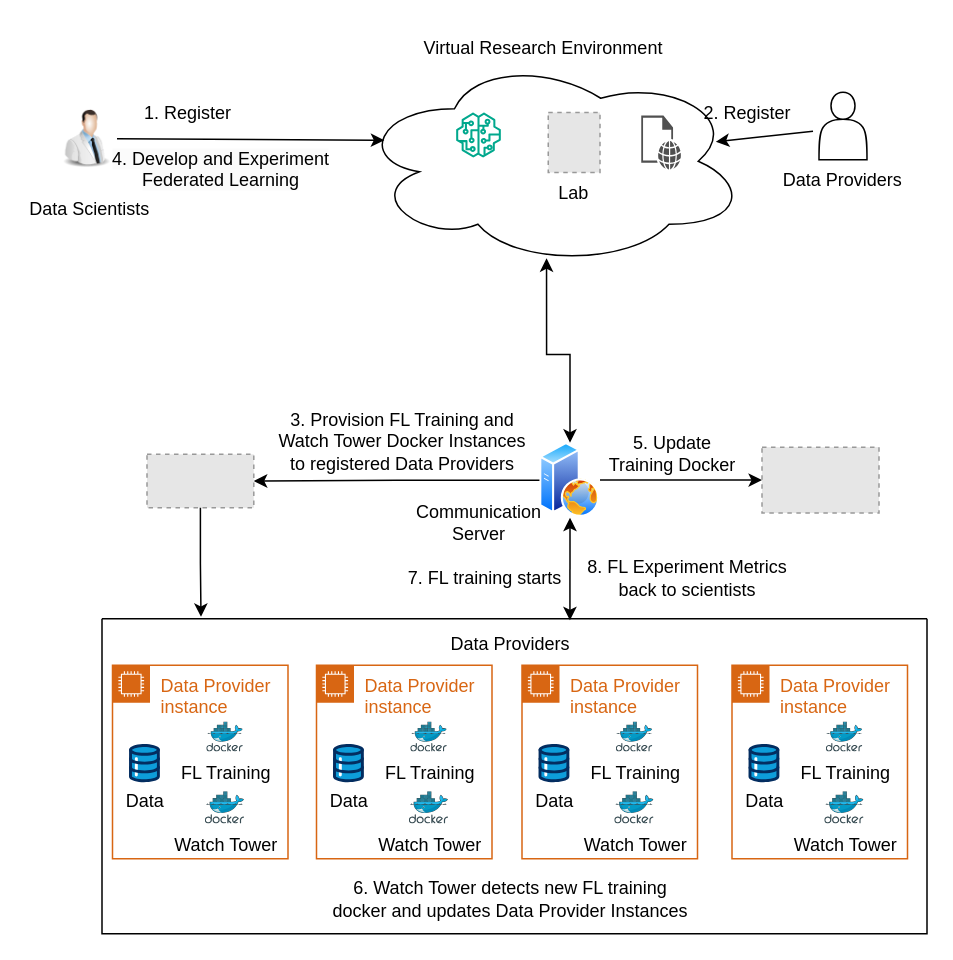
Image size: 953x960. Some labels were removed from this diagram. Grey dashed boxes stand in for pictures. Here are the shapes that lost their labels. From the top down, the centre of each, then its label:
At (x=477, y=134): "Model Configuration".
At (x=660, y=142): "FL Portal".
